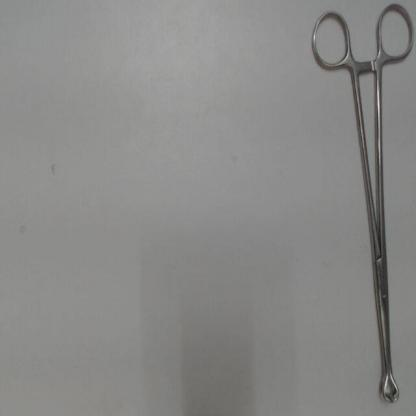8 Babcock Tissue Forceps: (309, 1, 415, 408)
